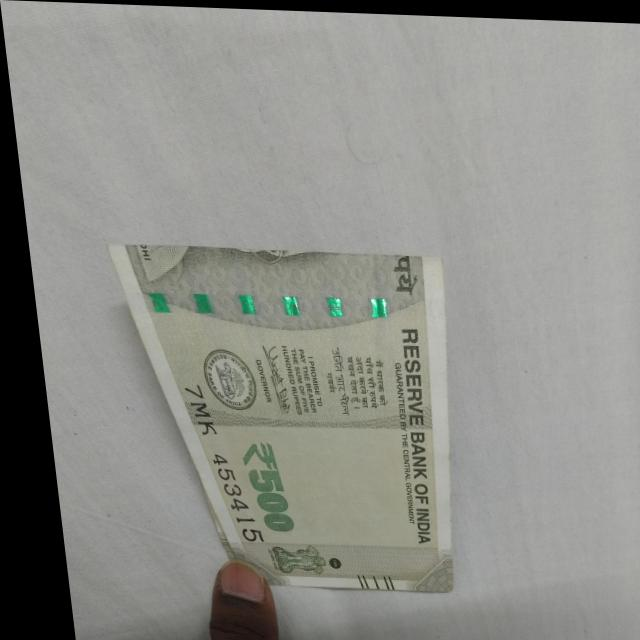Currency: (112, 223, 478, 555)
